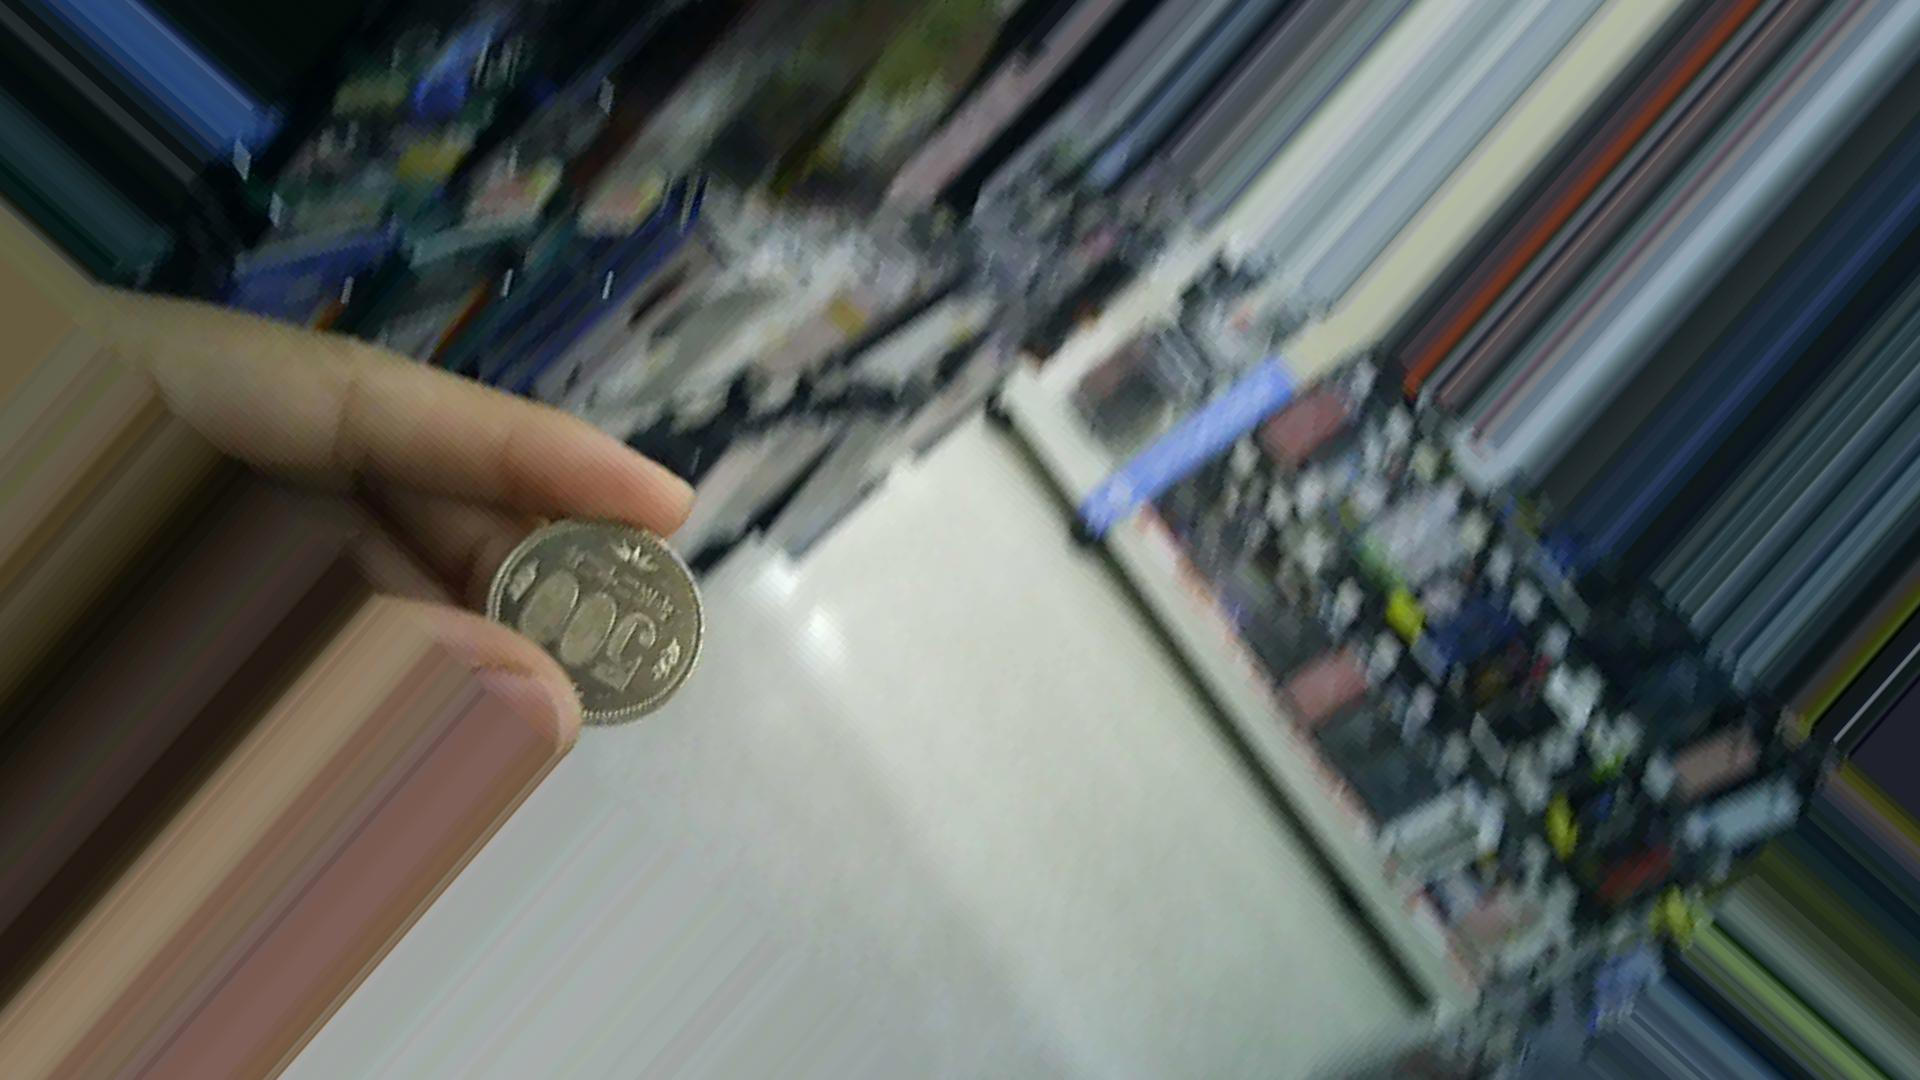500 Yen: (483, 495, 707, 731)
